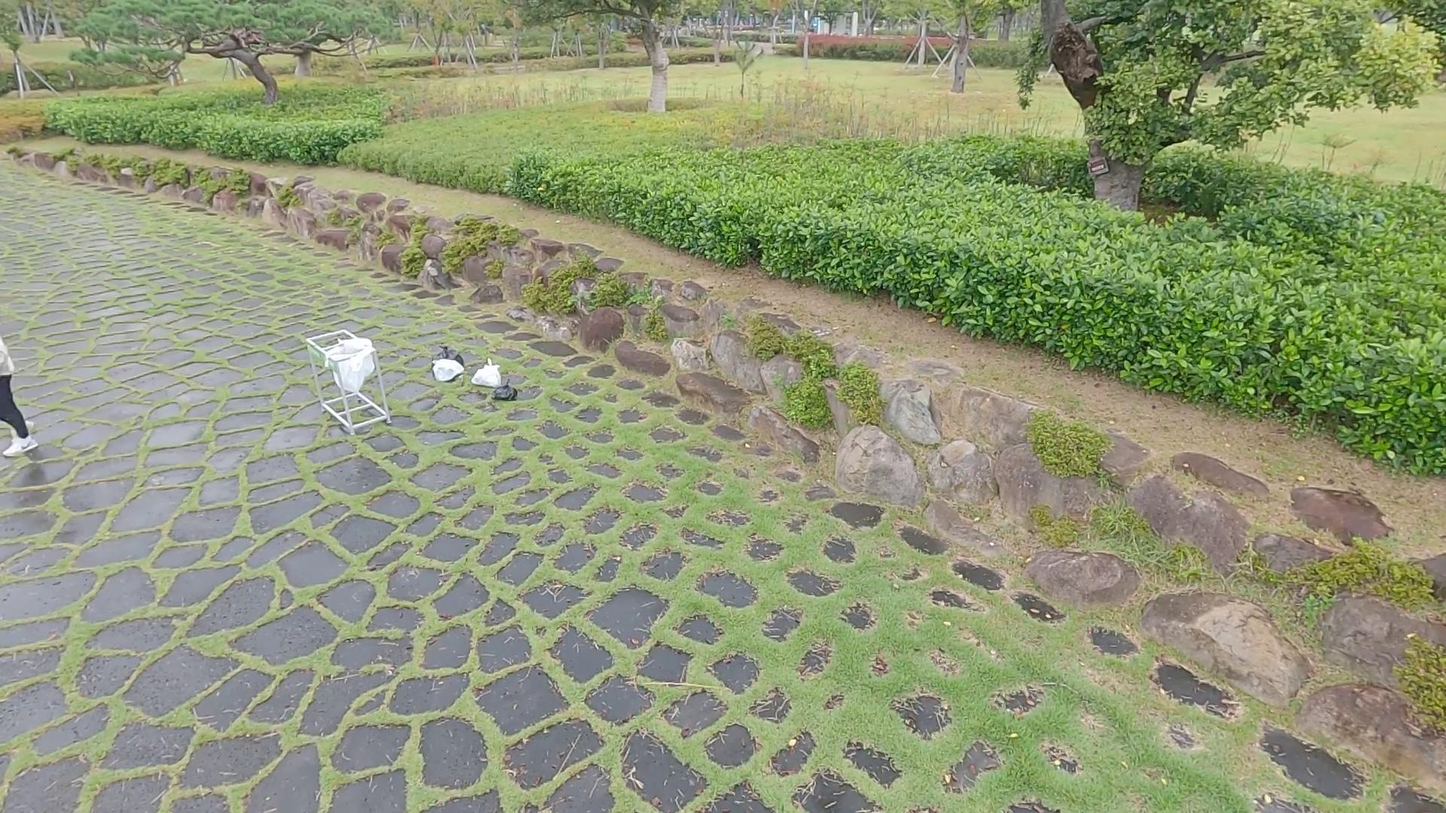person: (0, 298, 46, 458)
trash: (427, 341, 466, 381), (468, 356, 505, 390), (429, 356, 467, 385), (488, 376, 524, 403)
